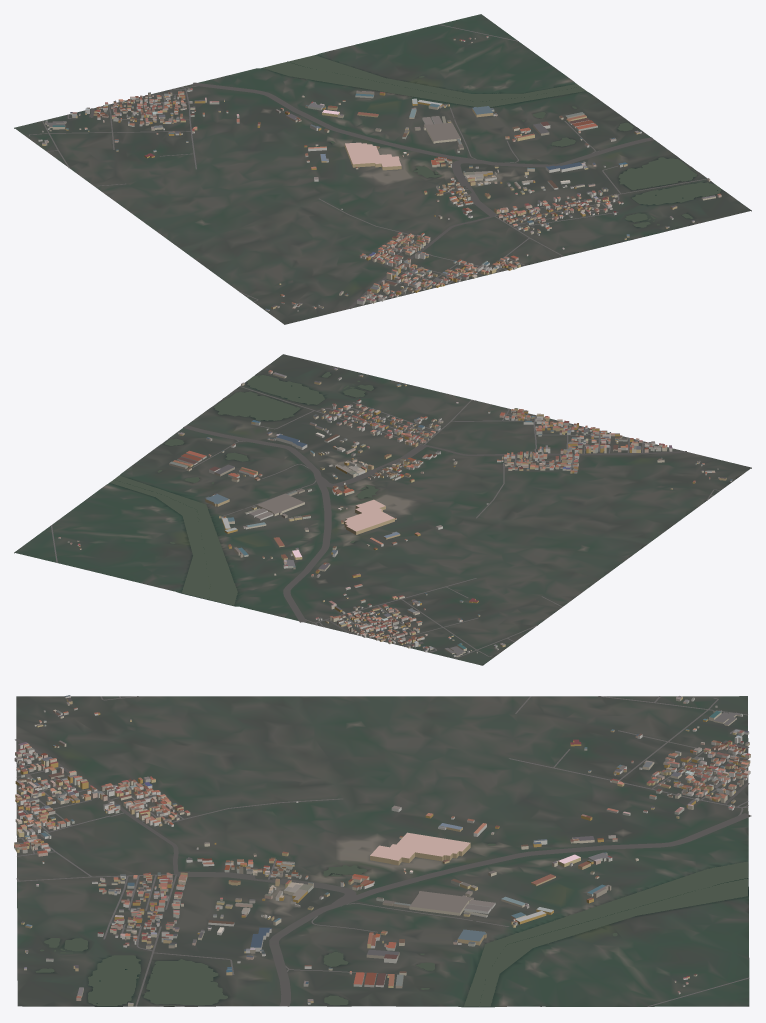
The picture shows the model from 3 angles, top to bottom: view 1: azimuth 30°, elevation 25°; view 2: azimuth 150°, elevation 25°; view 3: azimuth 270°, elevation 25°; orthographic projection. The views are drawn at different scales.
Parts seen in each view (by area): view 1: ground, buildings, water, roads; view 2: ground, buildings, water, roads; view 3: ground, buildings, water, roads.
Boxes of the visible parts, left/top/right/bottom form: ground: left=14, top=14, right=751, bottom=324; buildings: left=38, top=36, right=721, bottom=311; water: left=263, top=55, right=721, bottom=227; roads: left=29, top=24, right=706, bottom=308; ground: left=14, top=354, right=751, bottom=665; buildings: left=58, top=368, right=732, bottom=656; water: left=110, top=372, right=378, bottom=605; roads: left=51, top=386, right=720, bottom=658; ground: left=16, top=696, right=749, bottom=1007; buildings: left=14, top=695, right=750, bottom=1006; water: left=35, top=843, right=748, bottom=1006; roads: left=15, top=696, right=751, bottom=1006.
Bounding box in the file's own units: 1407 × 23.2 × 1414.
